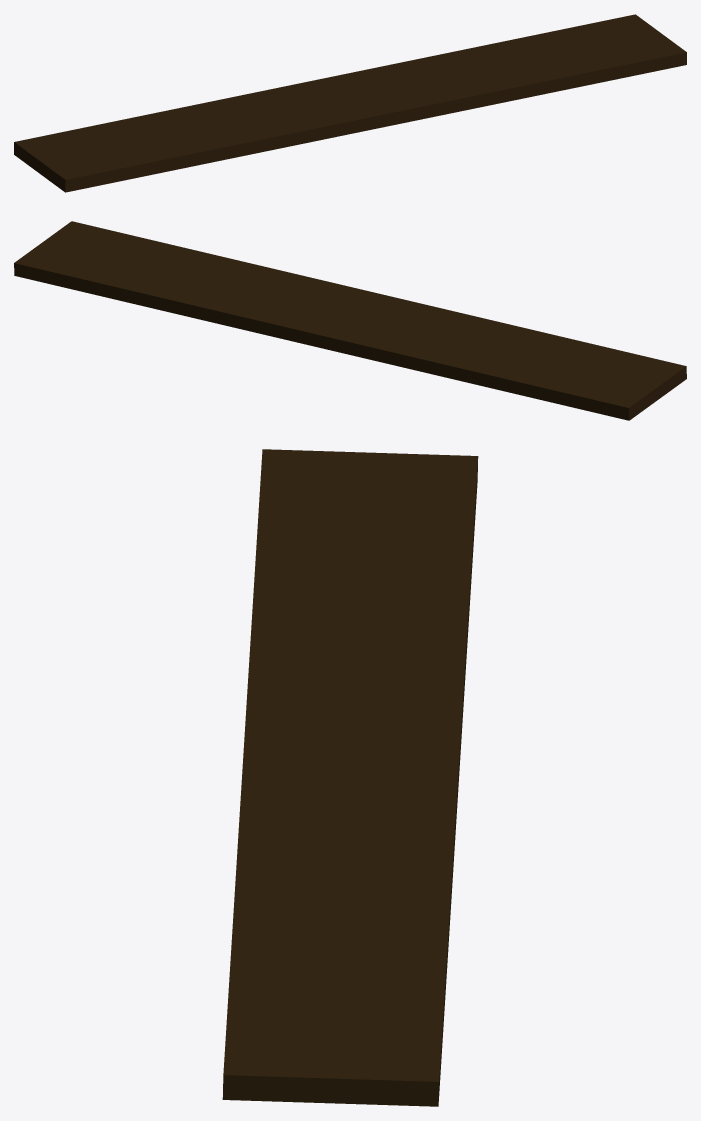
Rendered from Plank.fbx.
3 views of the same model, one above another, from view 1: azimuth 30°, elevation 25°; view 2: azimuth 150°, elevation 25°; view 3: azimuth 270°, elevation 25° (orthographic). The views are drawn at different scales.
Parts seen in each view (by area): view 1: Plank.004; view 2: Plank.004; view 3: Plank.004.
Part boxes in pixels (box(x1,y1,x2,y2)): Plank.004: box(14, 14, 686, 192); Plank.004: box(14, 221, 686, 420); Plank.004: box(222, 449, 478, 1106).
Bounding box in the file's own units: 1029 × 46.67 × 185.
